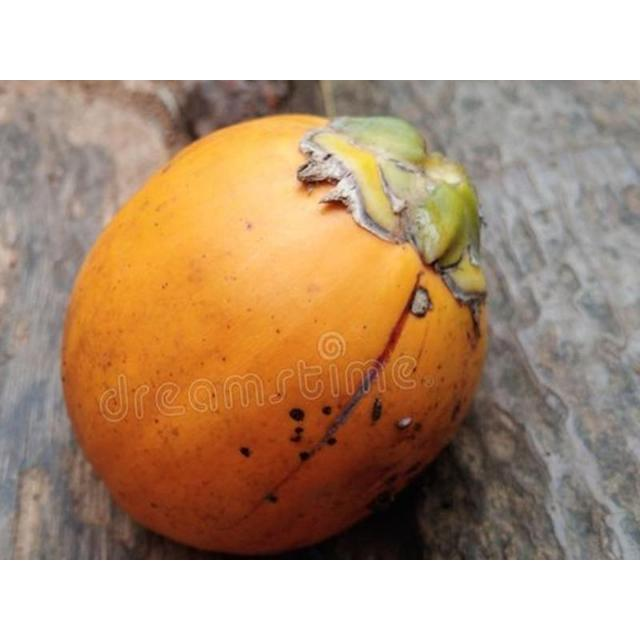good: (59, 114, 491, 558)
